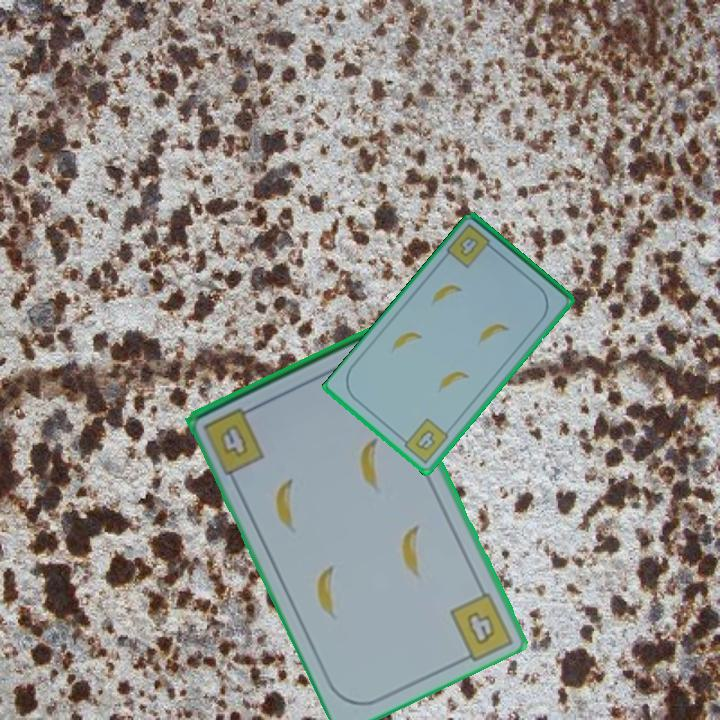4b: (199, 402, 268, 477), (397, 414, 452, 467), (443, 220, 499, 271), (463, 608, 499, 649)
